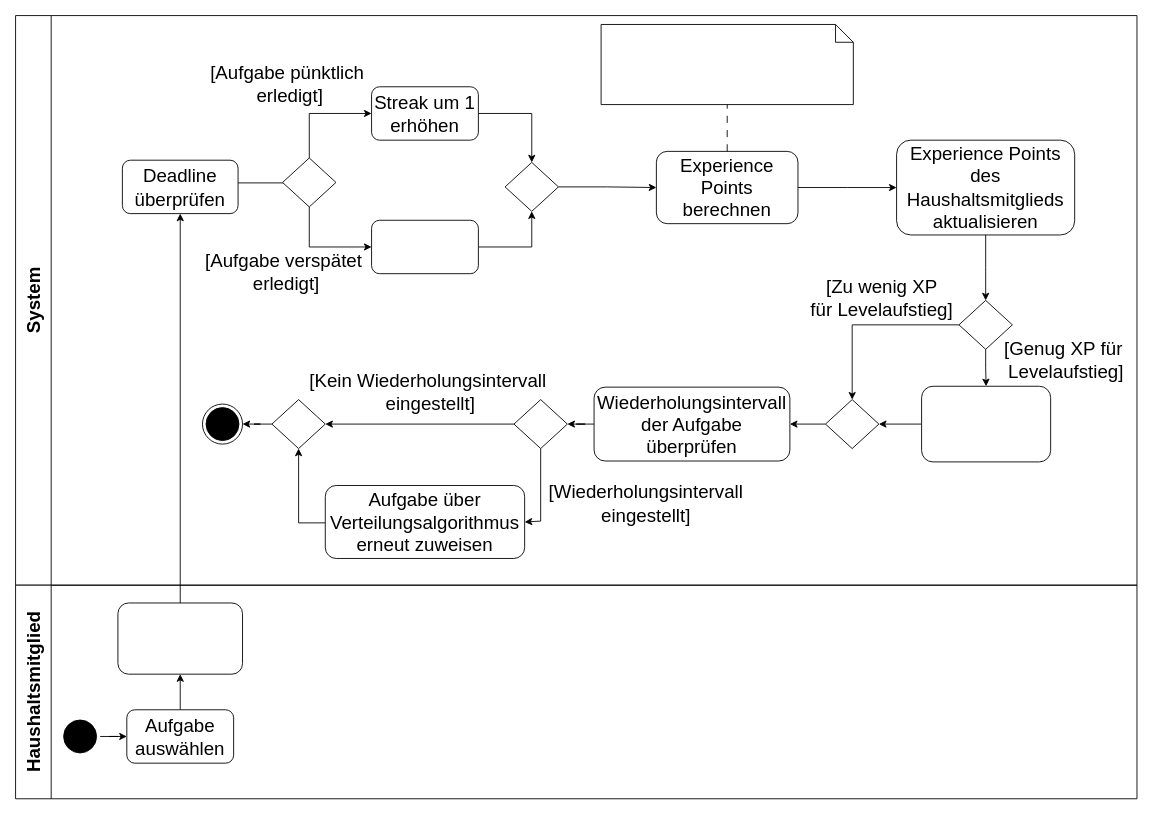
The diagram is 1153 pixels wide and 814 high, and some of its shapes have lost their labels. Each missing label, with the centre of its shape:
Aufgabe als erledigt markieren: point (180, 638)
Level des Nutzers erhöhen: point (986, 423)
Streak auf 0 setzen: point (424, 246)
XPearned = baseXP * (1 + min((streakCount/100), 1)): point (726, 64)
